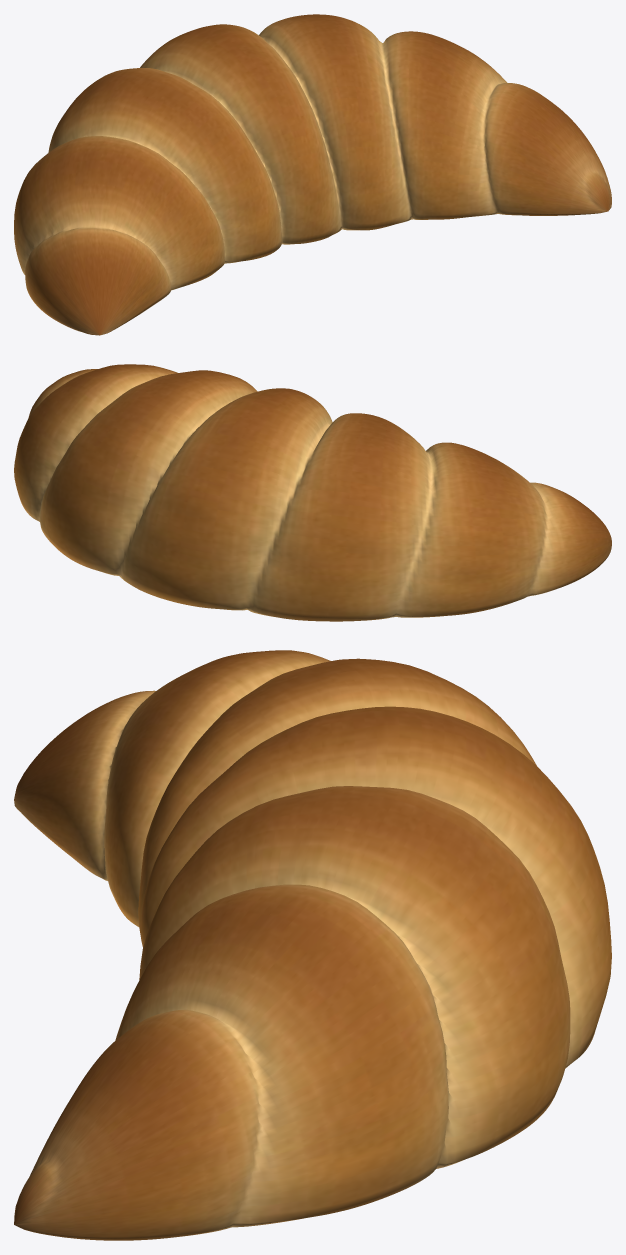
File: croissant-tradicional.glb
3 views of the same model, one above another, from view 1: azimuth 30°, elevation 25°; view 2: azimuth 150°, elevation 25°; view 3: azimuth 270°, elevation 25° (orthographic). The views are drawn at different scales.
Visible parts, largest first — view 1: croissant; view 2: croissant; view 3: croissant.
Part boxes in pixels (bbox=[...]): croissant: bbox=[14, 14, 611, 335]; croissant: bbox=[14, 364, 611, 621]; croissant: bbox=[14, 650, 611, 1240].
Bounding box in the file's own units: 0.136 × 0.0383 × 0.0745.
1 material, 1 textured.
